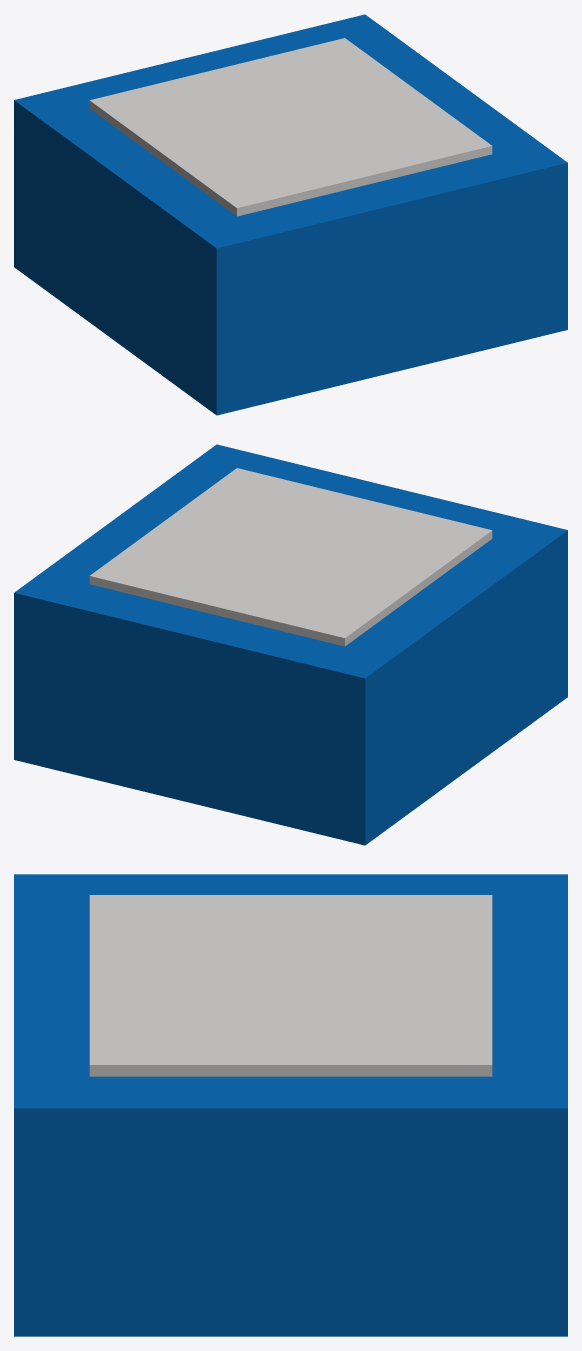
The model's file is square_dip_bowl.glb.
3 renders of one model, top to bottom at view 1: azimuth 30°, elevation 25°; view 2: azimuth 150°, elevation 25°; view 3: azimuth 270°, elevation 25°, orthographic. The views are drawn at different scales.
Visible parts, largest first — view 1: world; view 2: world; view 3: world.
Part boxes in pixels (left/top/right/bottom): world: left=14, top=14, right=567, bottom=415; world: left=14, top=444, right=567, bottom=845; world: left=14, top=874, right=567, bottom=1336.
Size of the model in its own units: 0.22 by 0.105 by 0.22.
